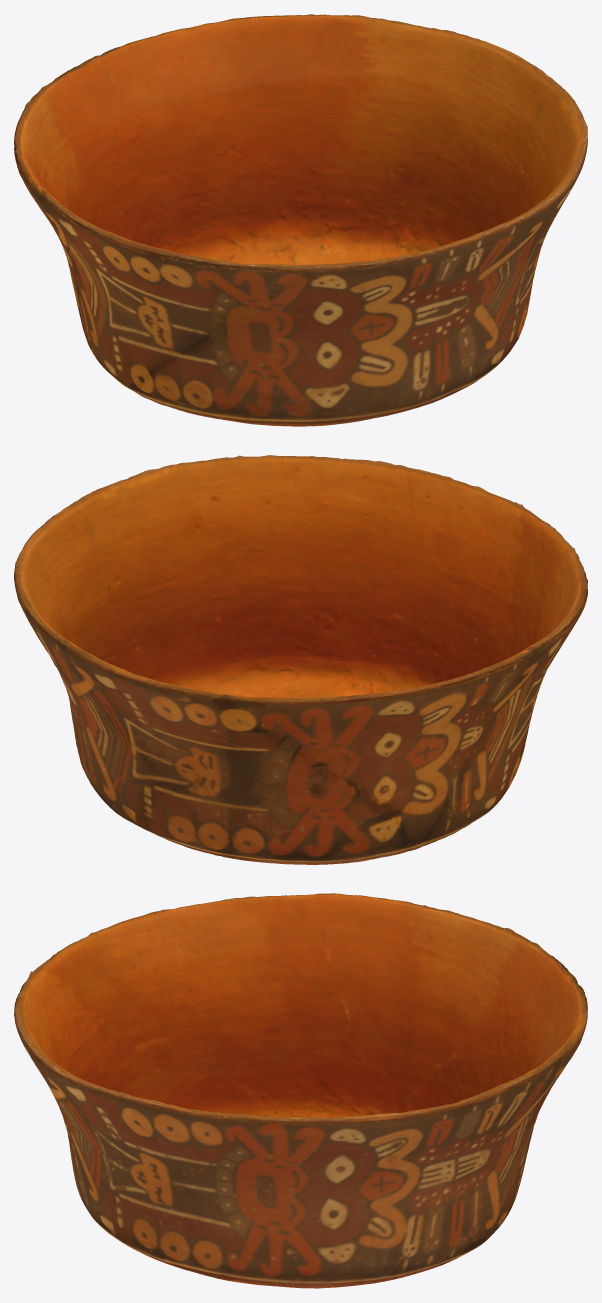
Rendered from preview.glb.
The picture shows the model from 3 angles, top to bottom: view 1: azimuth 30°, elevation 25°; view 2: azimuth 150°, elevation 25°; view 3: azimuth 270°, elevation 25°; orthographic projection.
Visible parts, largest first — view 1: Model; view 2: Model; view 3: Model.
Part boxes in pixels (x1=…): Model: x1=14, y1=14, x2=587, y2=426; Model: x1=14, y1=455, x2=587, y2=864; Model: x1=14, y1=893, x2=587, y2=1288.
Size of the model in its own units: 0.1995 by 0.0955 by 0.2028.
4 materials, 4 textured.
